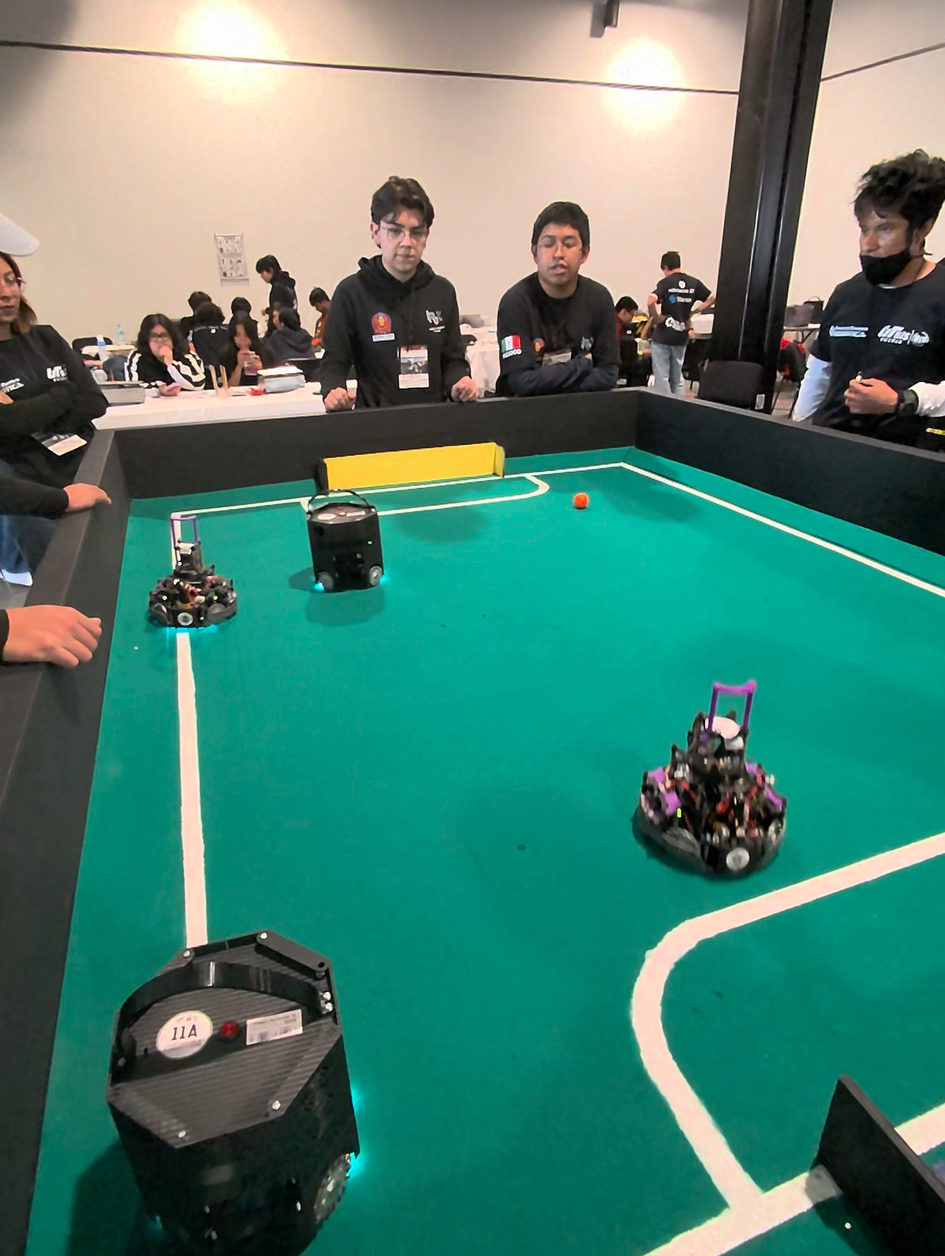Robot: (92, 910, 398, 1255), (641, 690, 789, 896), (296, 475, 393, 618), (151, 529, 243, 631)
pelota: (554, 482, 605, 525)
